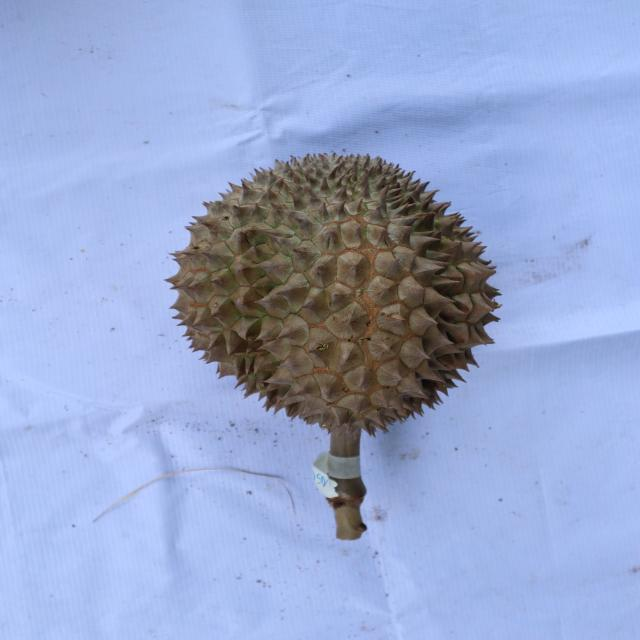mature: (158, 149, 508, 427)
